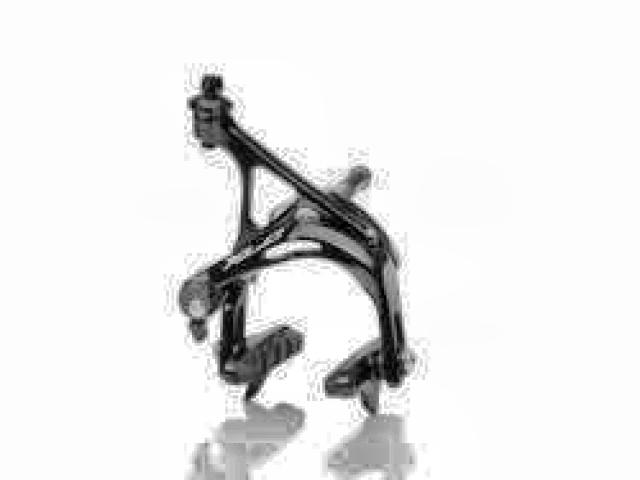rim_brake: (177, 73, 417, 417)
